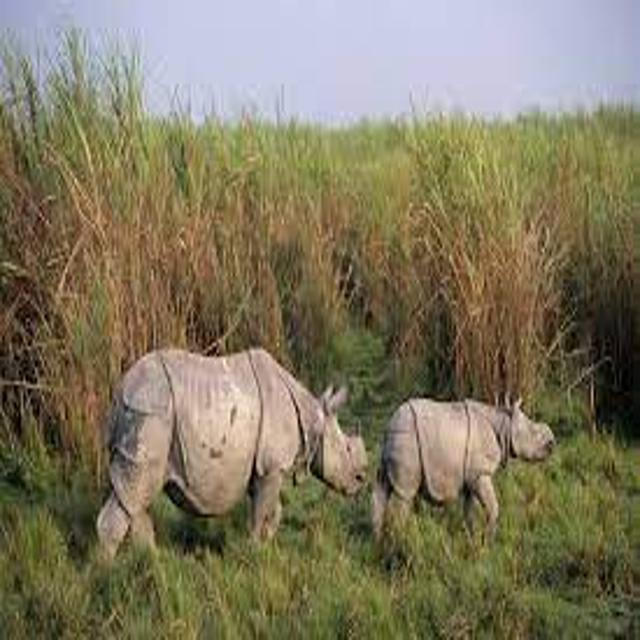Rinoceros: (58, 308, 369, 613), (361, 382, 578, 538)
